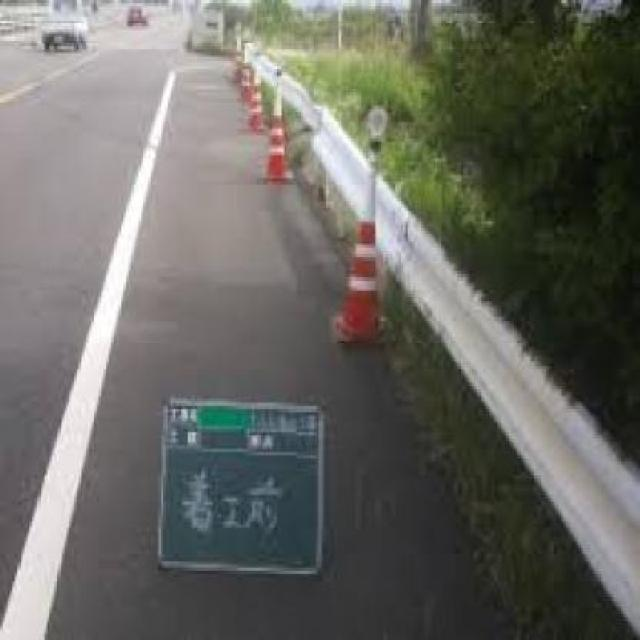Guard rail: (241, 35, 639, 636)
